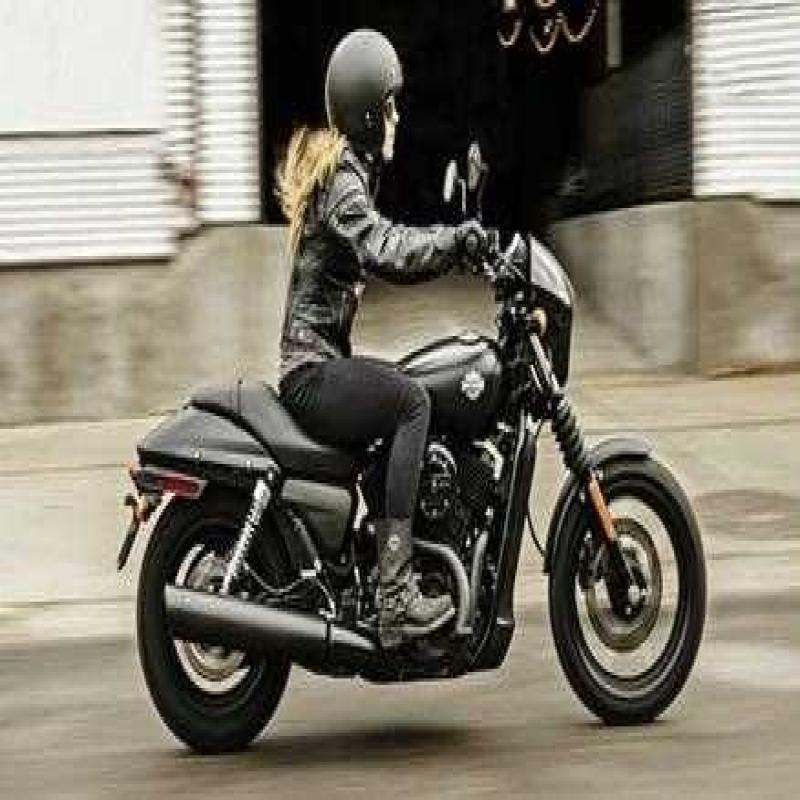bike: (90, 129, 712, 752)
